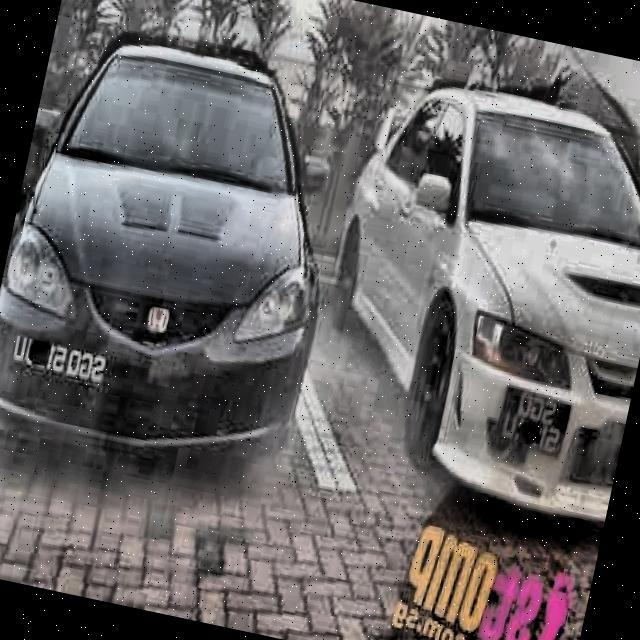license_plate: (4, 331, 110, 388), (494, 388, 573, 461)
